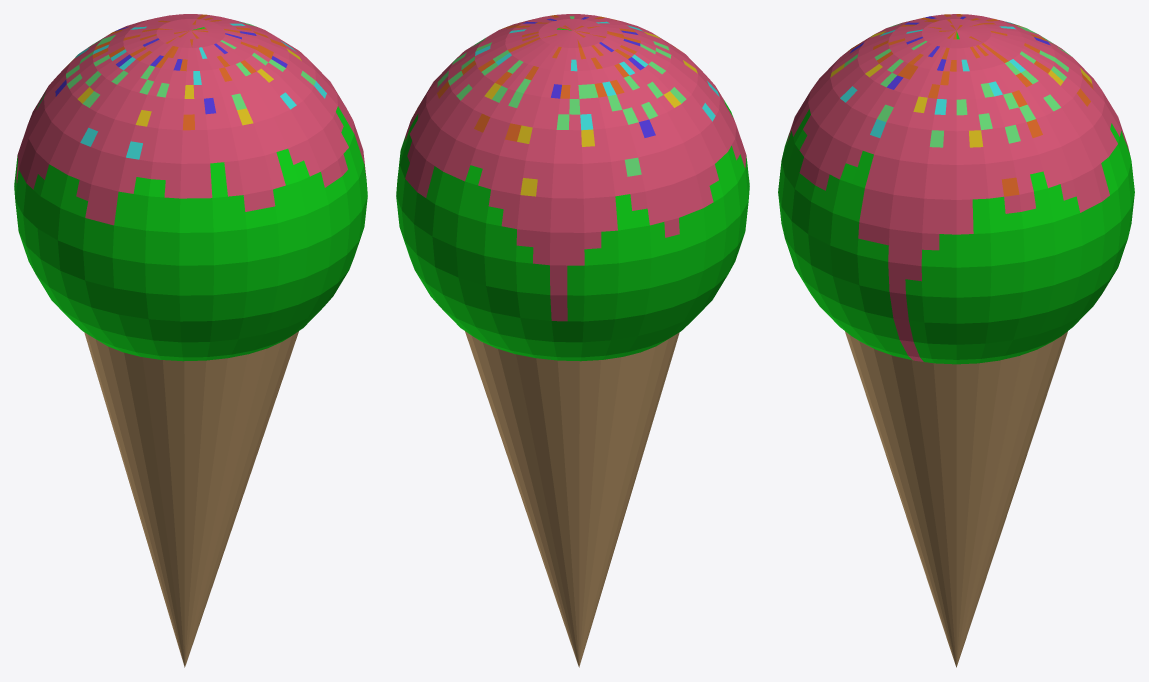
Rendered from MIDDLE.fbx.
The picture shows the model from 3 angles, left to right: view 1: azimuth 30°, elevation 25°; view 2: azimuth 150°, elevation 25°; view 3: azimuth 270°, elevation 25°; orthographic projection.
Visible parts, largest first — view 1: Sphere, Cone; view 2: Sphere, Cone; view 3: Sphere, Cone.
Part boxes in pixels (<box>): Sphere: <box>14,14,367,361</box>; Cone: <box>84,331,298,667</box>; Sphere: <box>396,14,749,361</box>; Cone: <box>465,331,679,667</box>; Sphere: <box>778,14,1134,364</box>; Cone: <box>845,331,1067,667</box>.
Size of the model in its own units: 259 by 513 by 259.
